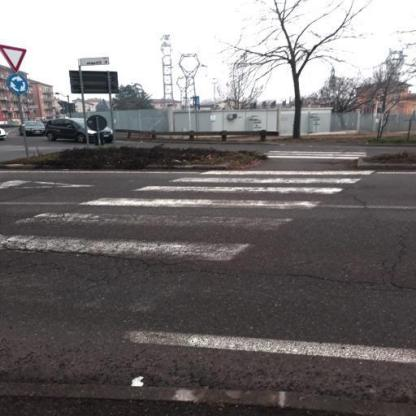crosswalk: (11, 192, 326, 236), (171, 168, 385, 186)
